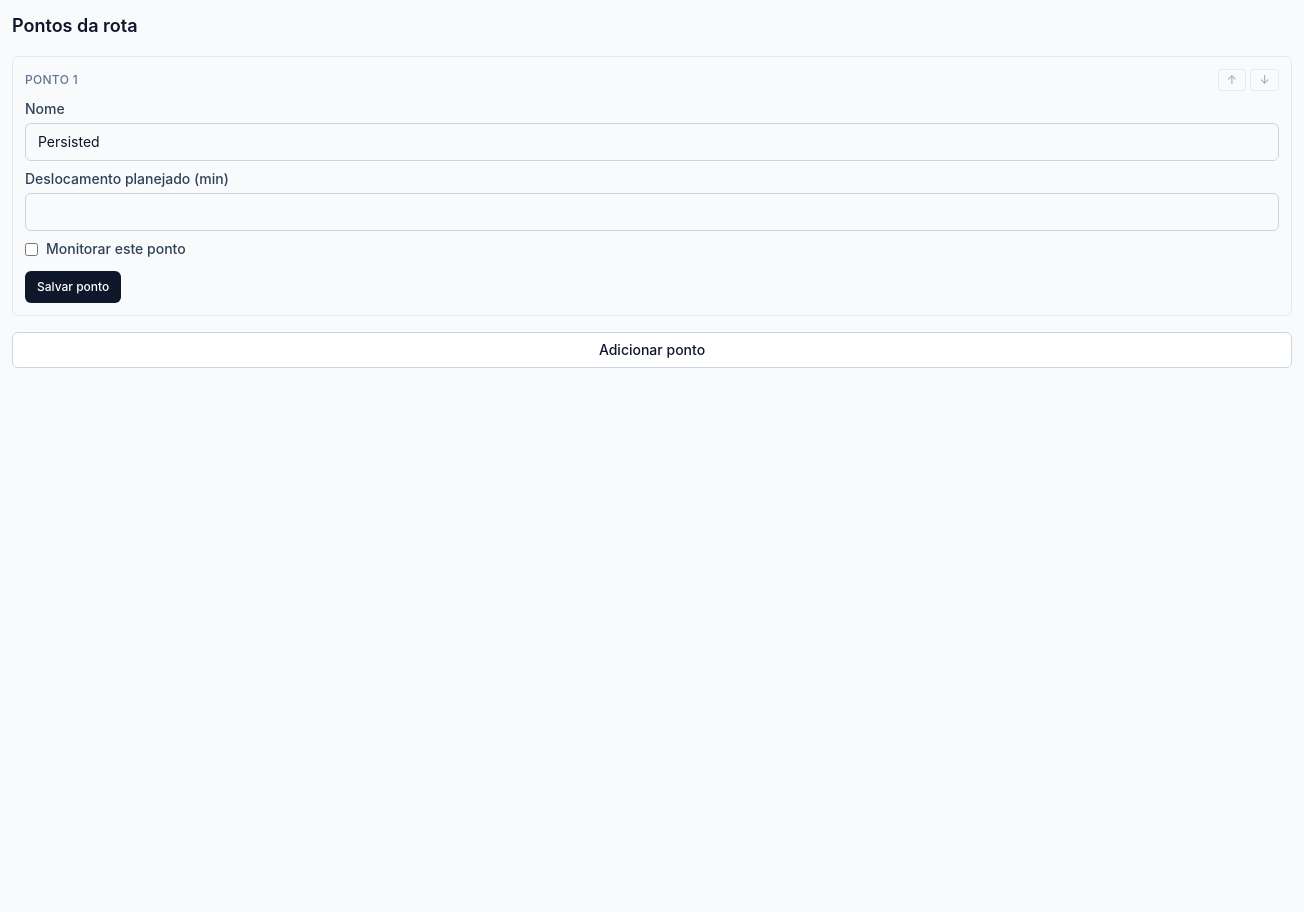
Test: RoutePointsEditor › hides Remover button for persisted points but shows it for new points
This screenshot has width=1304, height=912.
Check: the field showing "Persisted" is shown, box [25,123,1279,161]
Check: the button "Remover" is not shown
Click the button "Adicionar ponto".
click(652, 350)  # box [12,332,1292,368]
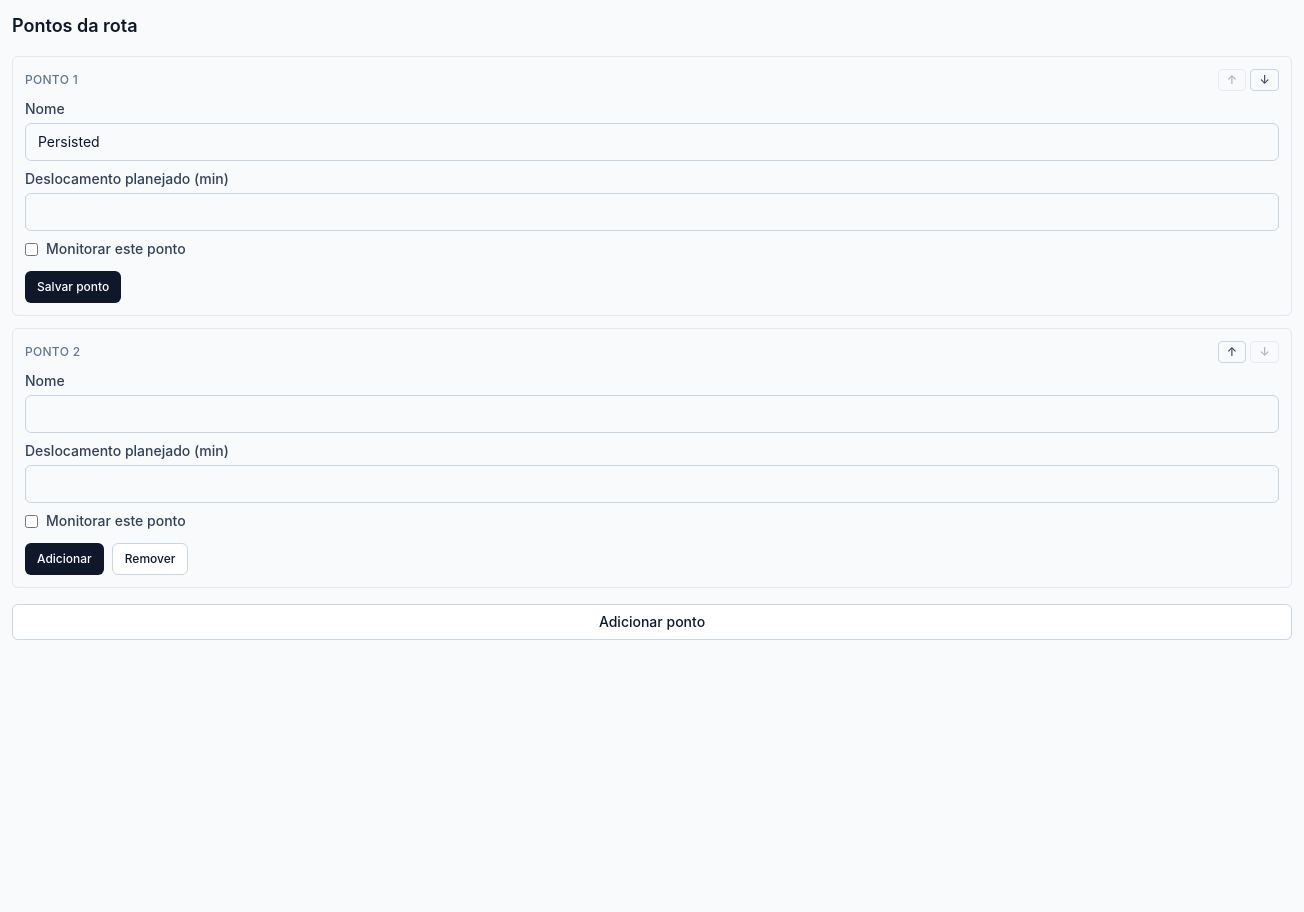
Check: the button "Remover" is shown, box [112,543,188,575]
